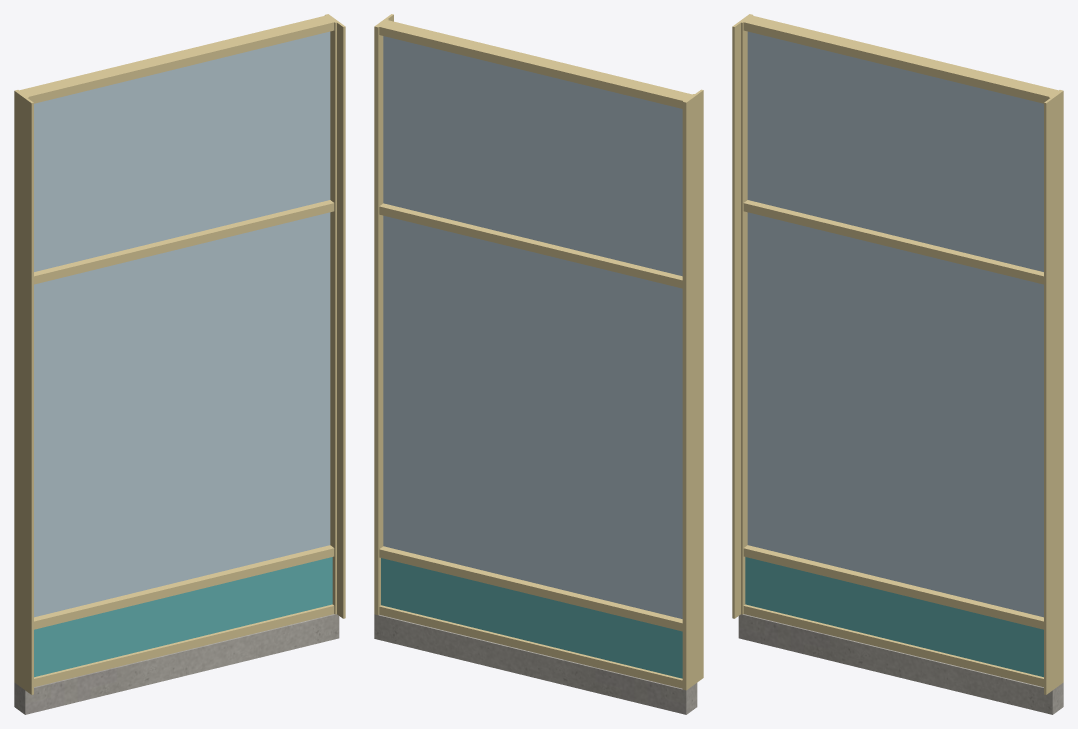
The model's file is g_win.glb.
3 renders of one model, left to right at view 1: azimuth 30°, elevation 25°; view 2: azimuth 150°, elevation 25°; view 3: azimuth 330°, elevation 25°, orthographic.
Parts seen in each view (by area): view 1: g_win_glass, g_win_gold, g_win_teal, g_win_concrete; view 2: g_win_glass, g_win_gold, g_win_teal, g_win_concrete; view 3: g_win_glass, g_win_gold, g_win_teal, g_win_concrete.
Boxes of the visible parts, left/top/right/bottom form: g_win_glass: left=34, top=31, right=330, bottom=617; g_win_gold: left=14, top=14, right=345, bottom=694; g_win_teal: left=34, top=557, right=332, bottom=677; g_win_concrete: left=14, top=614, right=339, bottom=714; g_win_glass: left=383, top=36, right=682, bottom=618; g_win_gold: left=374, top=14, right=703, bottom=690; g_win_teal: left=381, top=558, right=682, bottom=678; g_win_concrete: left=374, top=614, right=697, bottom=714; g_win_glass: left=747, top=31, right=1043, bottom=617; g_win_gold: left=732, top=14, right=1063, bottom=694; g_win_teal: left=745, top=557, right=1043, bottom=677; g_win_concrete: left=738, top=614, right=1063, bottom=714.
Bounding box in the file's own units: 2 × 3.75 × 0.19.
Materials: 4 (1 with a texture image).
